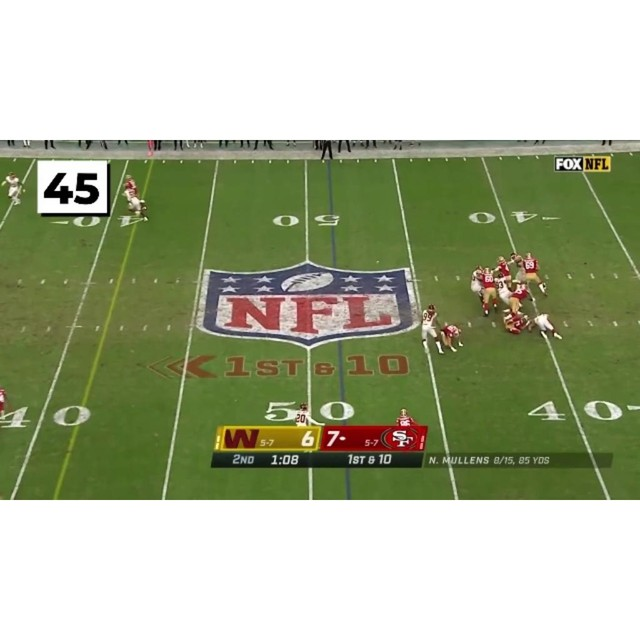american-football-player: (421, 302, 444, 355), (523, 251, 548, 297), (506, 281, 536, 316), (480, 267, 499, 316), (0, 172, 24, 205), (533, 313, 562, 339), (469, 264, 485, 306), (440, 323, 462, 353), (504, 312, 531, 335), (495, 255, 512, 286), (509, 251, 526, 282), (396, 408, 415, 427)
referee: (295, 403, 310, 426)
